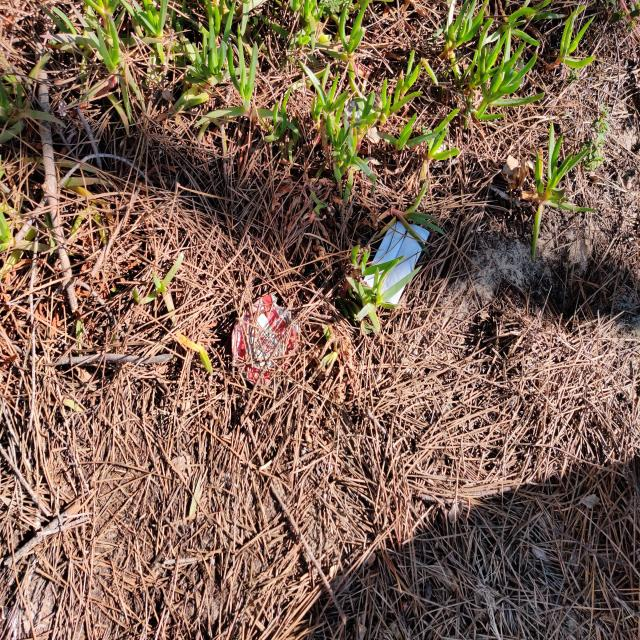litter: (336, 165, 447, 342), (209, 264, 324, 396)
